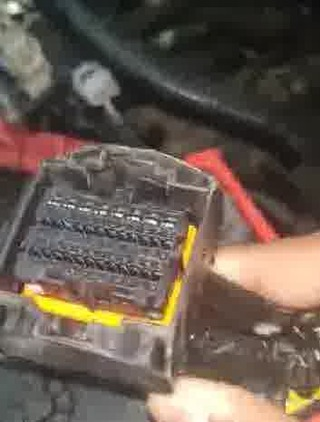connector: (1, 143, 224, 392)
